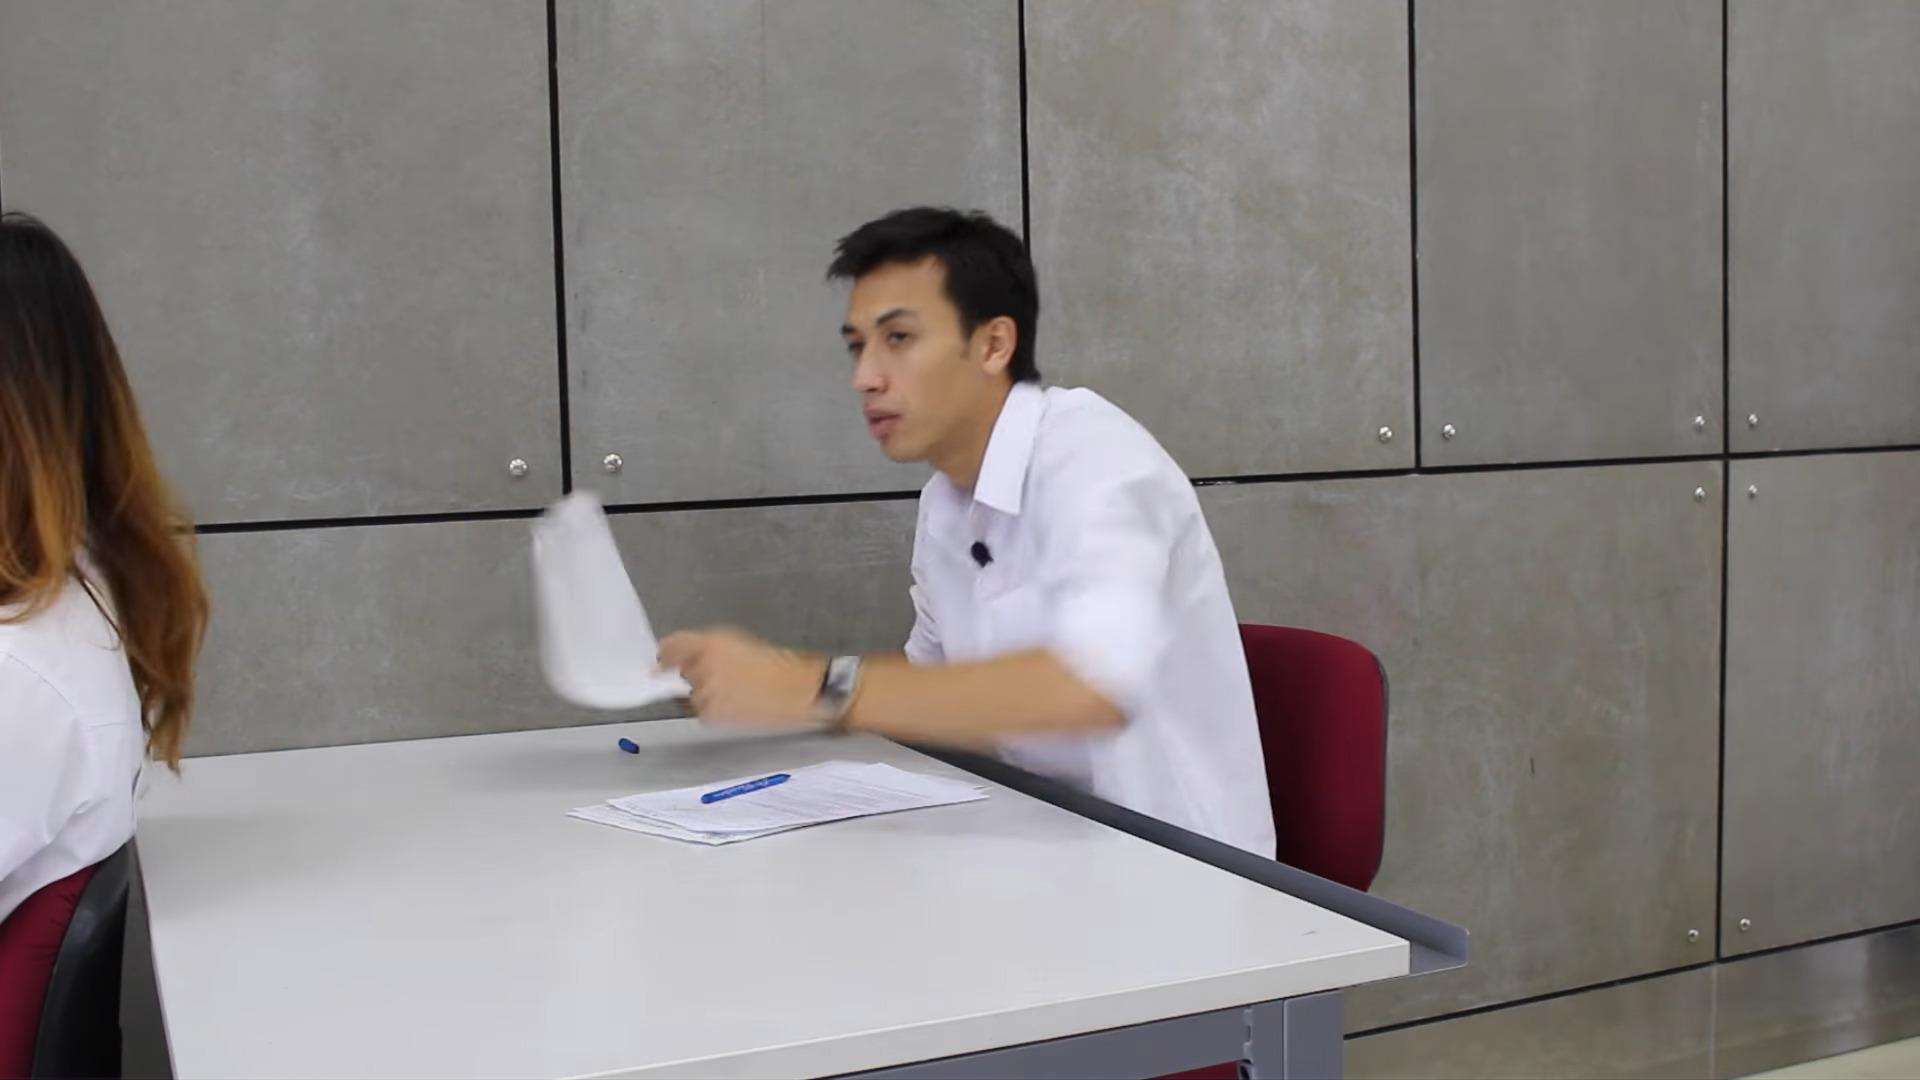cheating: (496, 161, 1340, 906)
